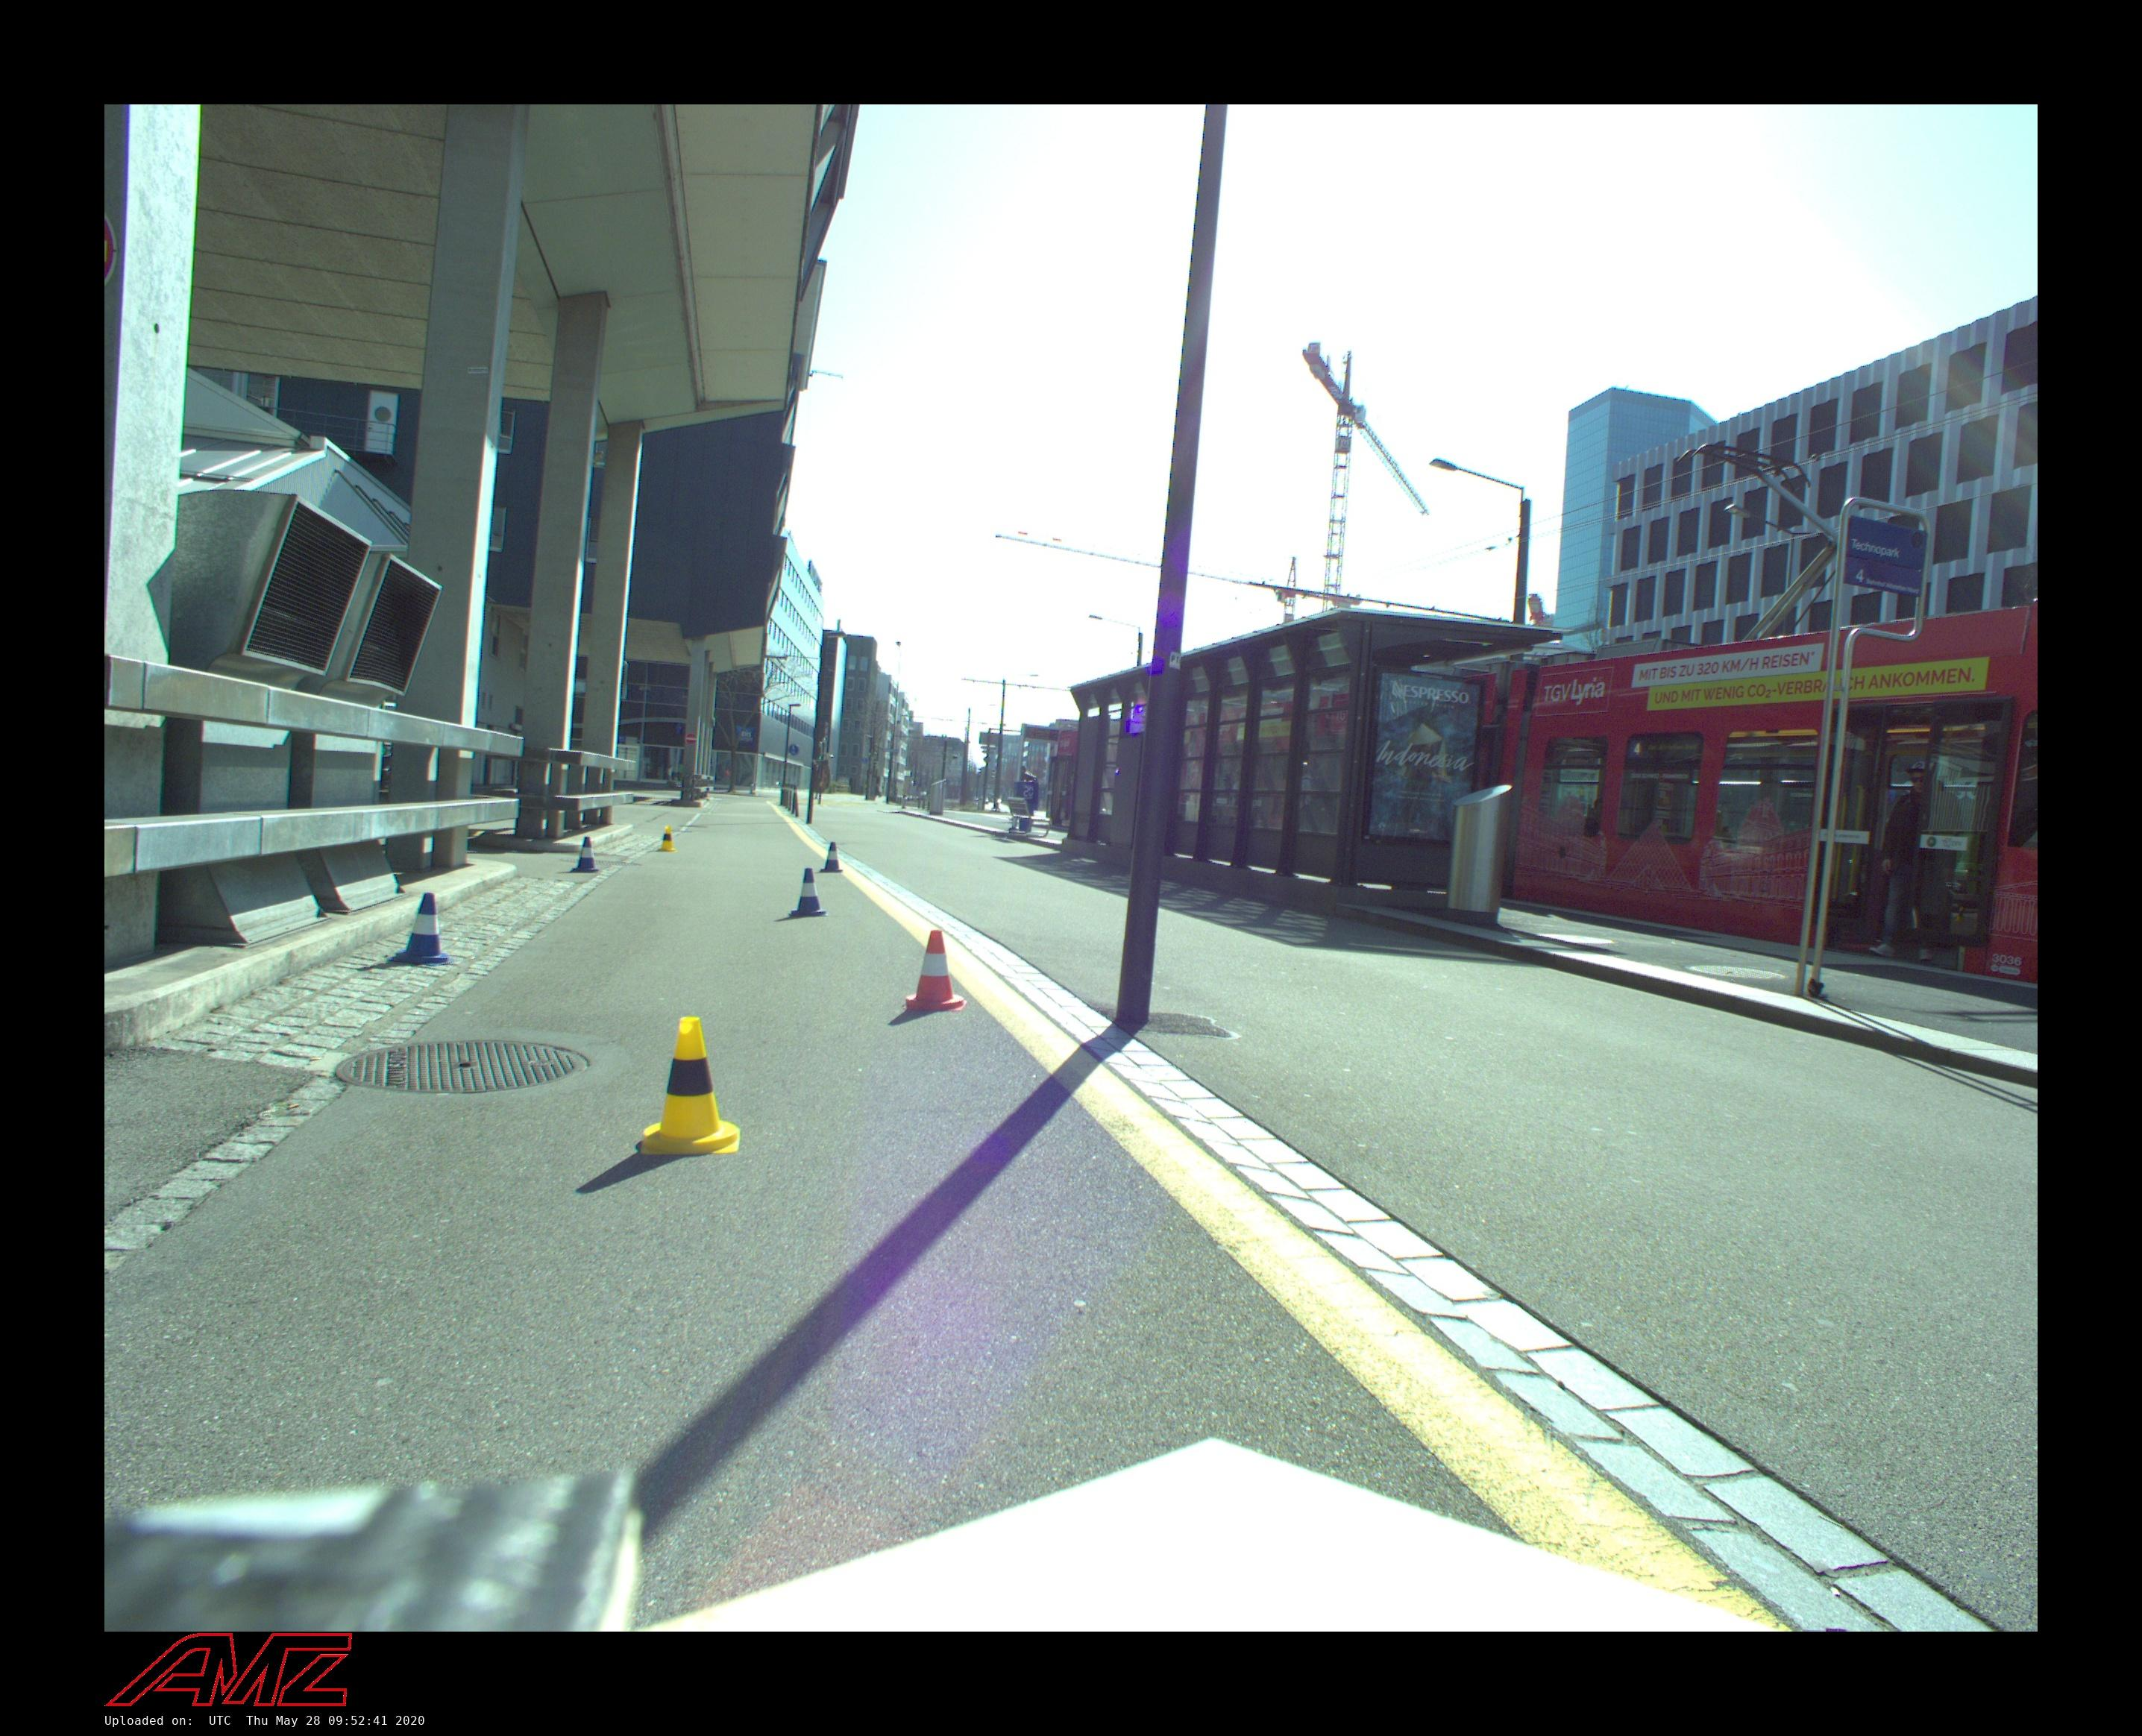blue_cone: (395, 891, 450, 964), (790, 868, 827, 916), (570, 836, 599, 873), (820, 841, 843, 873)
orange_cone: (905, 930, 964, 1010)
yellow_cone: (641, 1017, 741, 1153), (657, 825, 677, 852)
